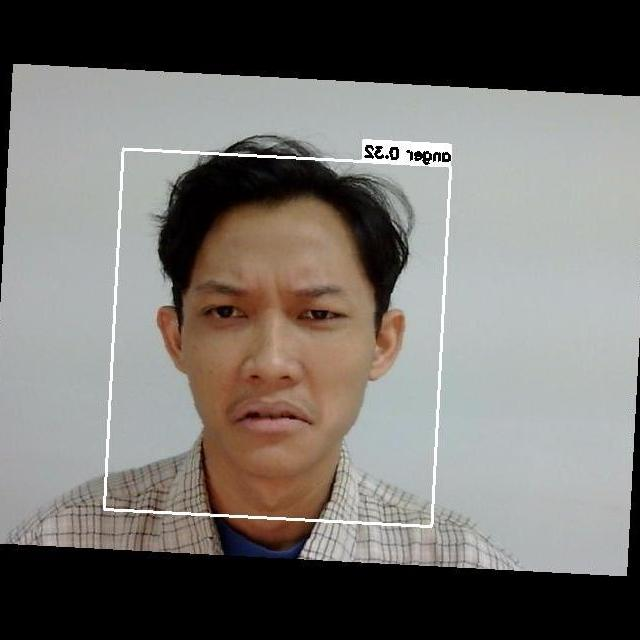Sad: (181, 267, 372, 455)
